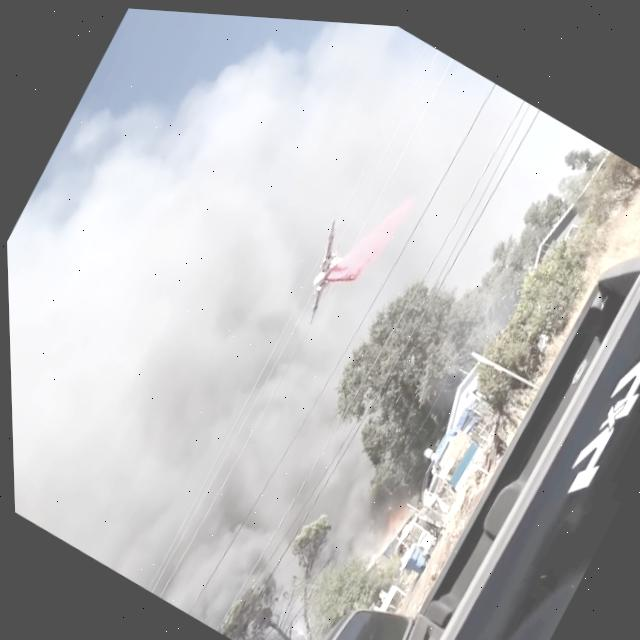Smoke: (3, 135, 378, 635)
